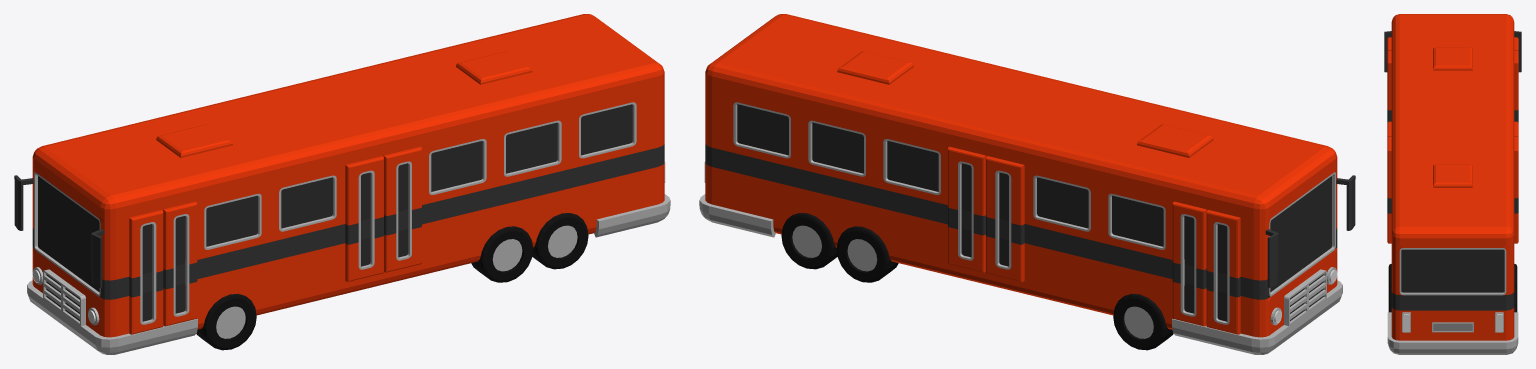
File: Bus.fbx
3 views of the same model, side by side, from view 1: azimuth 30°, elevation 25°; view 2: azimuth 150°, elevation 25°; view 3: azimuth 270°, elevation 25° (orthographic). The views are drawn at different scales.
Visible parts, largest first — view 1: bus; view 2: bus; view 3: bus.
Part boxes in pixels (x1=…): bus: x1=14, y1=14, x2=670, y2=354; bus: x1=699, y1=14, x2=1355, y2=354; bus: x1=1384, y1=14, x2=1521, y2=354.
Size of the model in its own units: 985 by 296 by 252.
